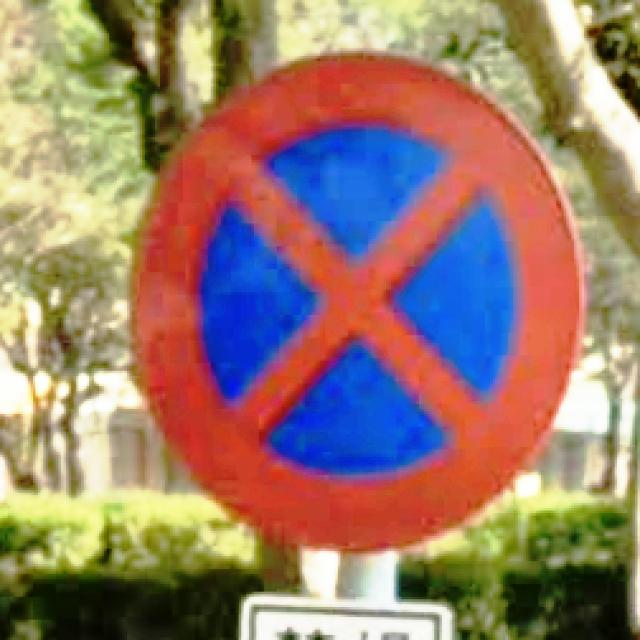nopark: (127, 51, 589, 559)
